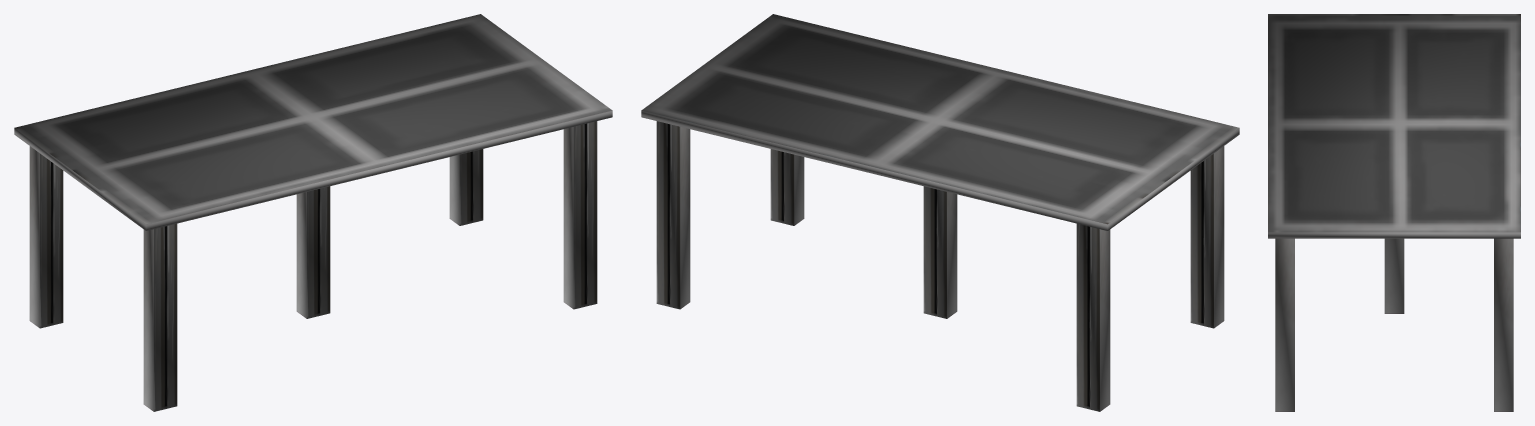
File: Mezzanine.fbx
The picture shows the model from 3 angles, left to right: view 1: azimuth 30°, elevation 25°; view 2: azimuth 150°, elevation 25°; view 3: azimuth 270°, elevation 25°; orthographic projection. The views are drawn at different scales.
Visible parts, largest first — view 1: Mezzanine; view 2: Mezzanine; view 3: Mezzanine.
Boxes of the visible parts, left/top/right/bottom form: Mezzanine: left=14, top=14, right=612, bottom=411; Mezzanine: left=641, top=14, right=1239, bottom=411; Mezzanine: left=1268, top=14, right=1520, bottom=411.
Bounding box in the file's own units: 11.06 × 4.38 × 5.41.
